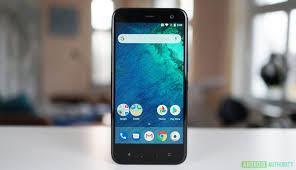htc: (108, 4, 192, 170)
